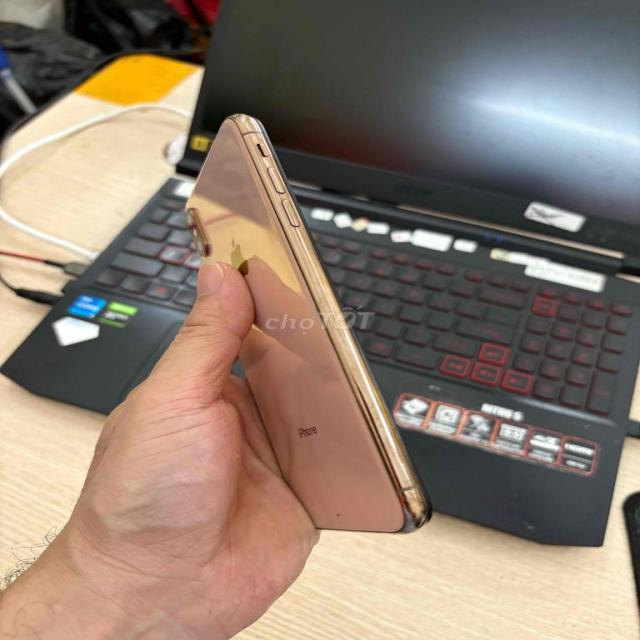scratch: (324, 504, 349, 526)
